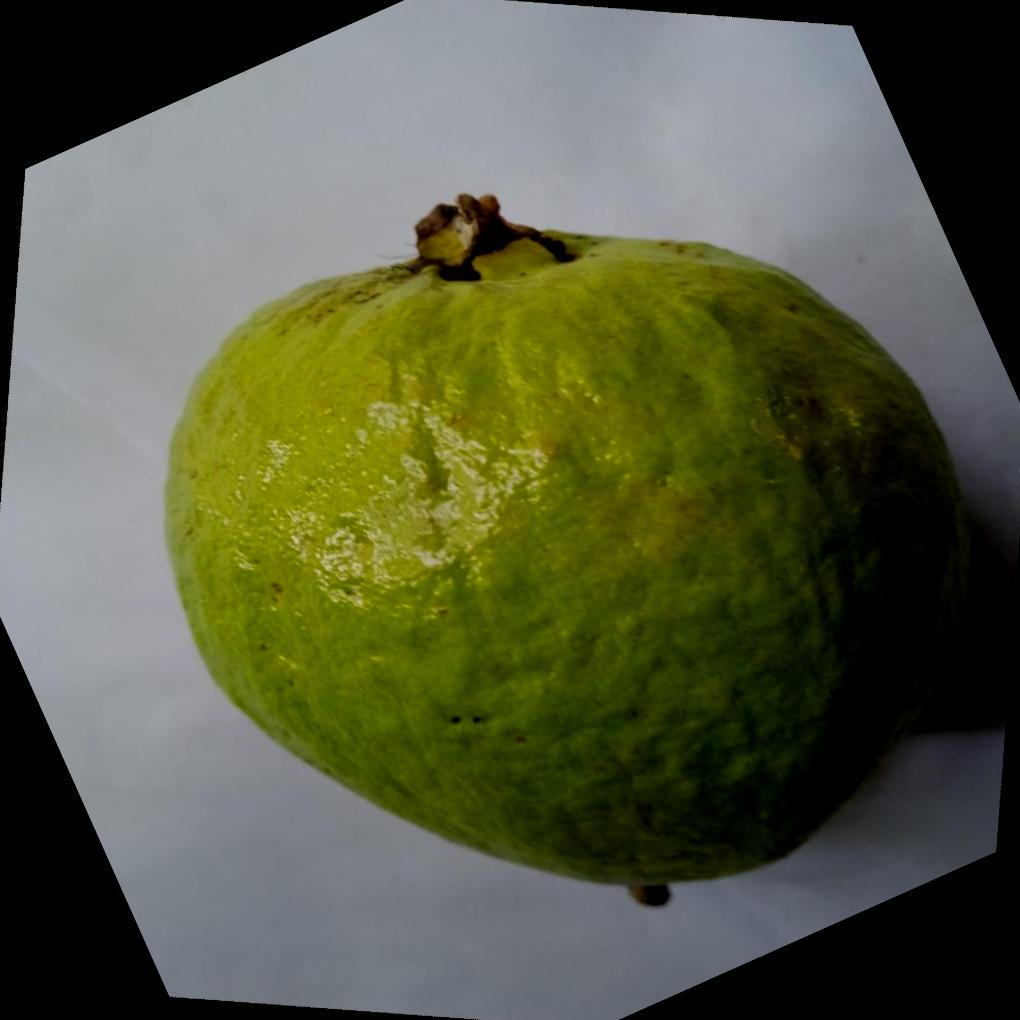FreshGuava: (159, 188, 972, 905)
